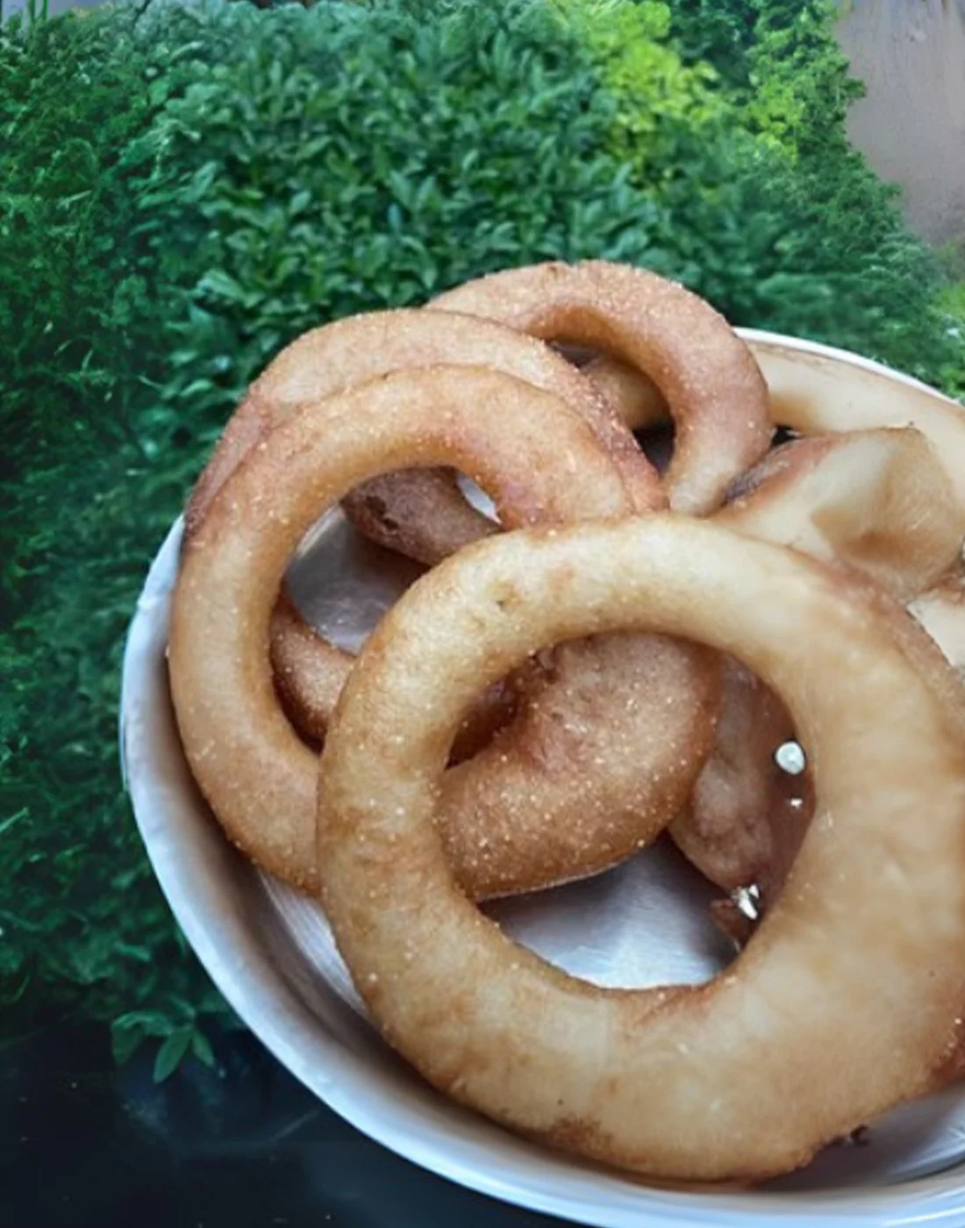sel_roti: (371, 561, 947, 1134), (167, 357, 693, 865), (474, 260, 775, 444)
